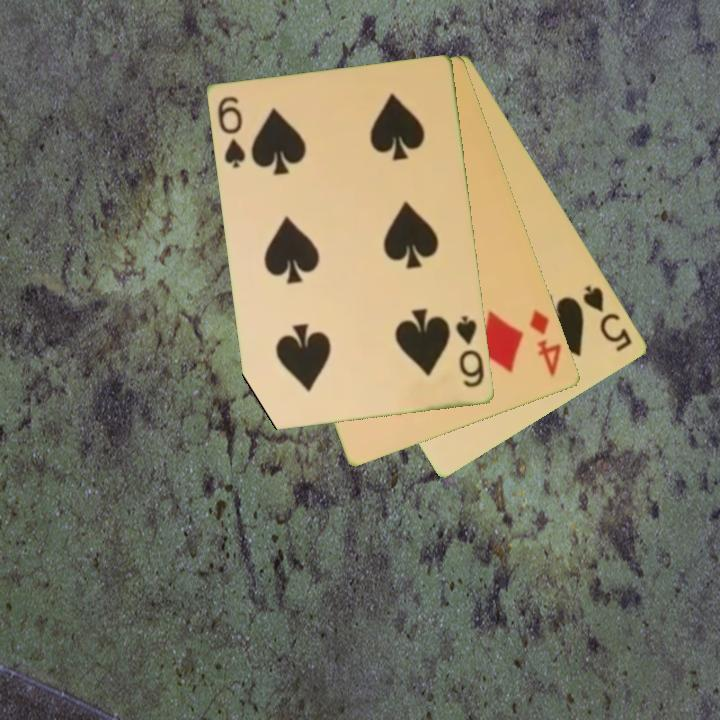4d: (526, 305, 565, 381)
5s: (579, 281, 636, 355)
6s: (452, 312, 488, 391), (214, 93, 249, 171)
